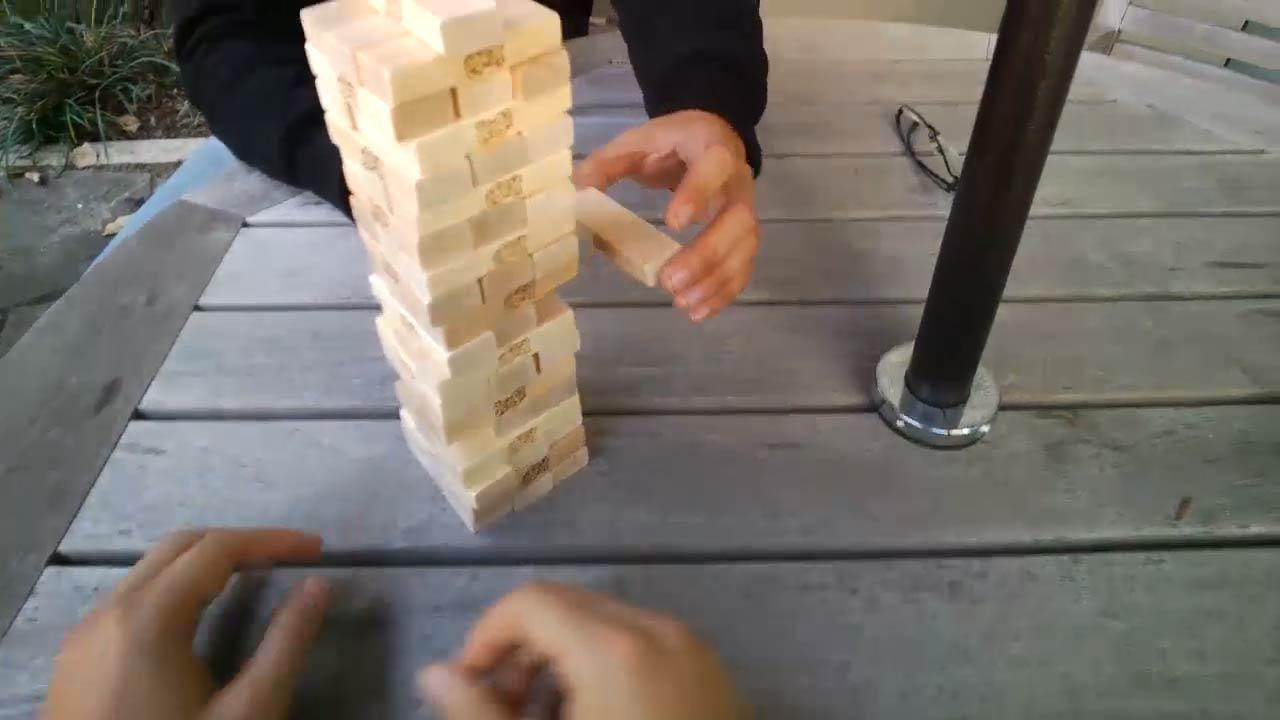hand: (408, 556, 752, 720), (57, 521, 330, 720), (581, 109, 758, 332)
